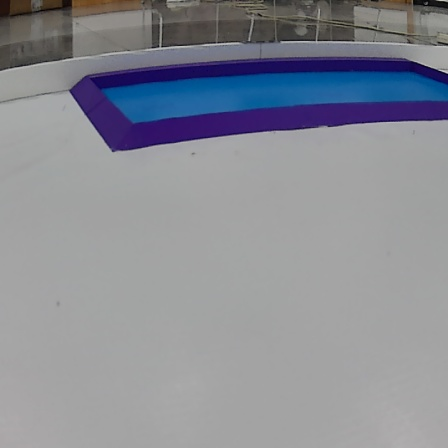blue_aim: (67, 52, 448, 154)
